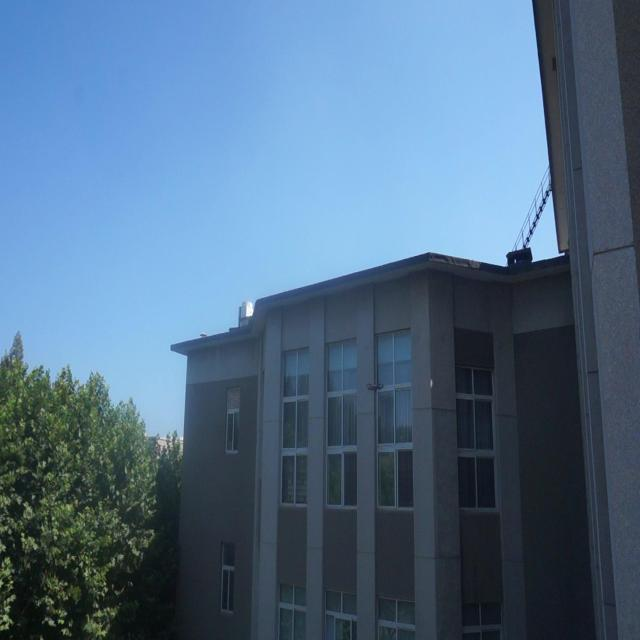drone: (364, 380, 388, 396)
